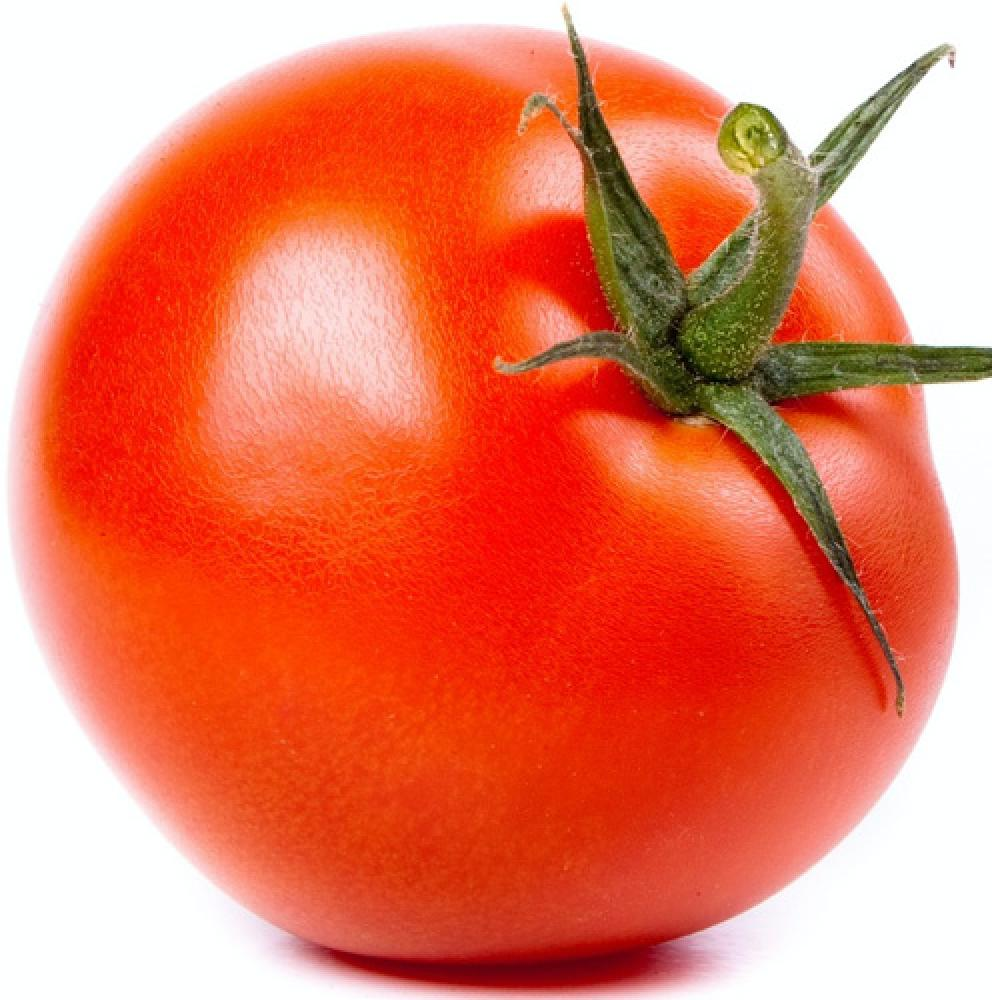tomato: (22, 37, 954, 960)
